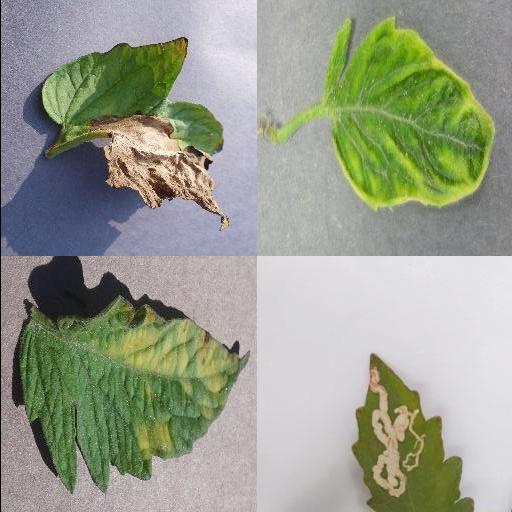Late Blight: (39, 34, 227, 232)
Leaf Miner: (350, 353, 474, 512)
Leaf Mold: (17, 296, 251, 495)
Yellow Leaf Curl Virus: (324, 18, 498, 212)
